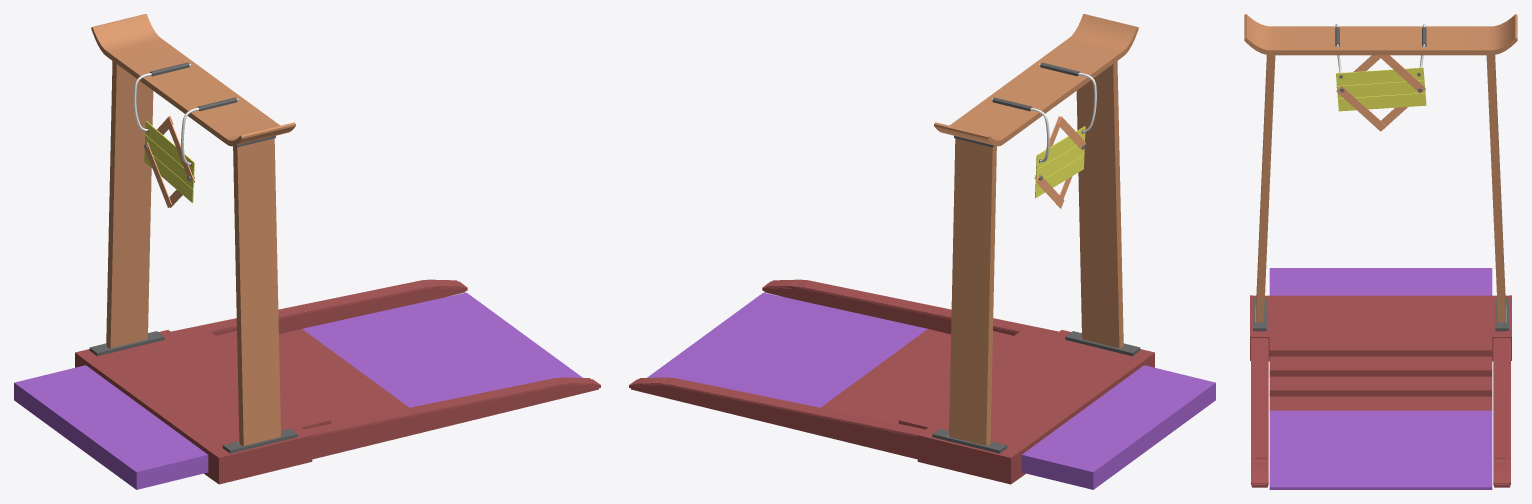
Rendered from Gate.fbx.
The picture shows the model from 3 angles, left to right: view 1: azimuth 30°, elevation 25°; view 2: azimuth 150°, elevation 25°; view 3: azimuth 270°, elevation 25°; orthographic projection. The views are drawn at different scales.
Visible parts, largest first — view 1: Cube.001, Cube; view 2: Cube.001, Cube; view 3: Cube.001, Cube.
Boxes of the visible parts, <box> form: Cube.001: <box>14,14,600,489</box>; Cube: <box>144,115,195,207</box>; Cube.001: <box>629,14,1215,489</box>; Cube: <box>1034,116,1085,208</box>; Cube.001: <box>1244,14,1517,489</box>; Cube: <box>1336,55,1426,131</box>.
Bounding box in the file's own units: 3422 × 2496 × 1960.
